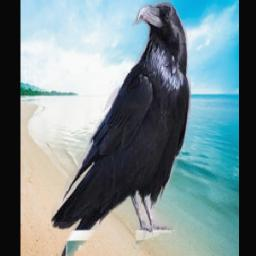Crow: (51, 0, 191, 256)
